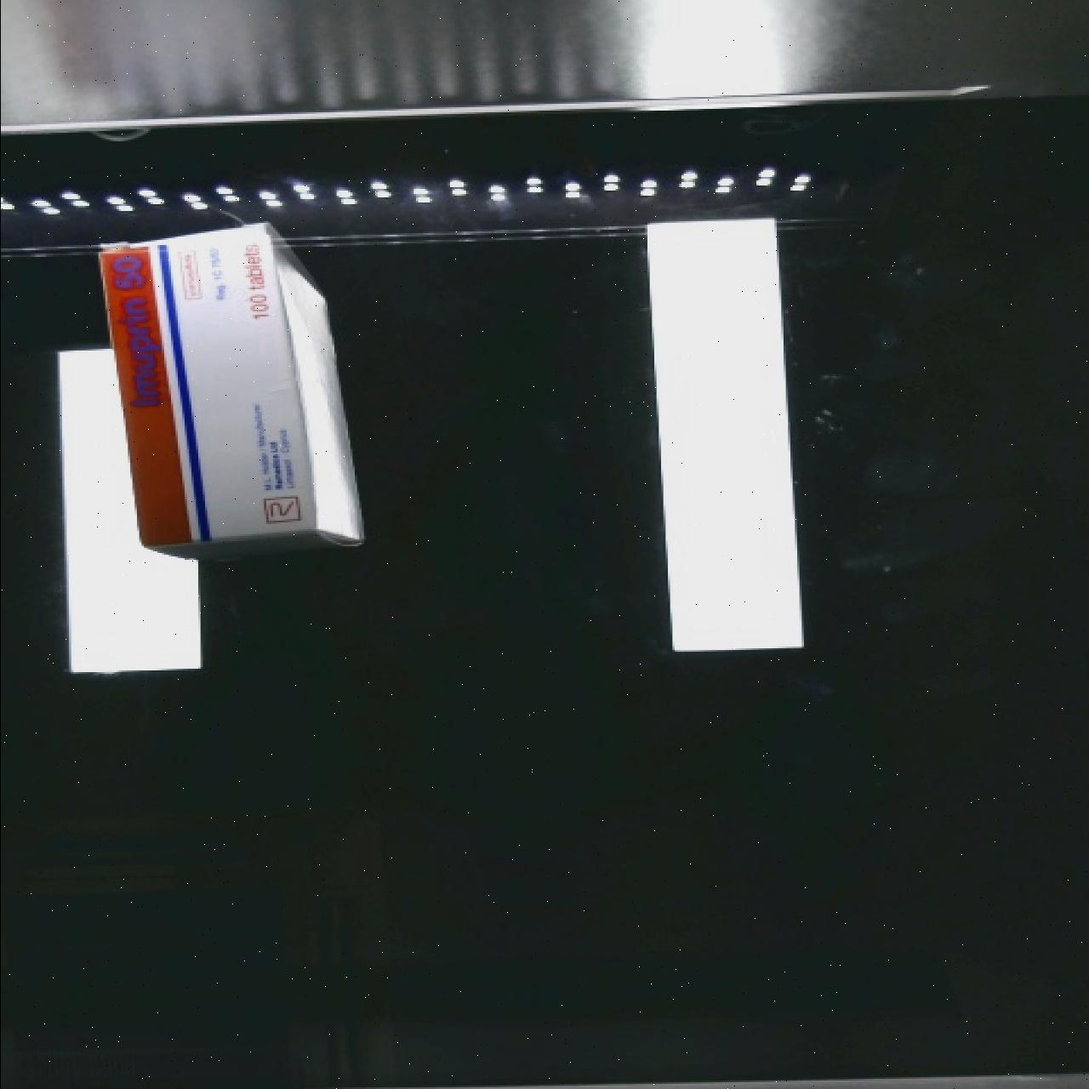medicine_label_obb: (101, 240, 186, 430)
